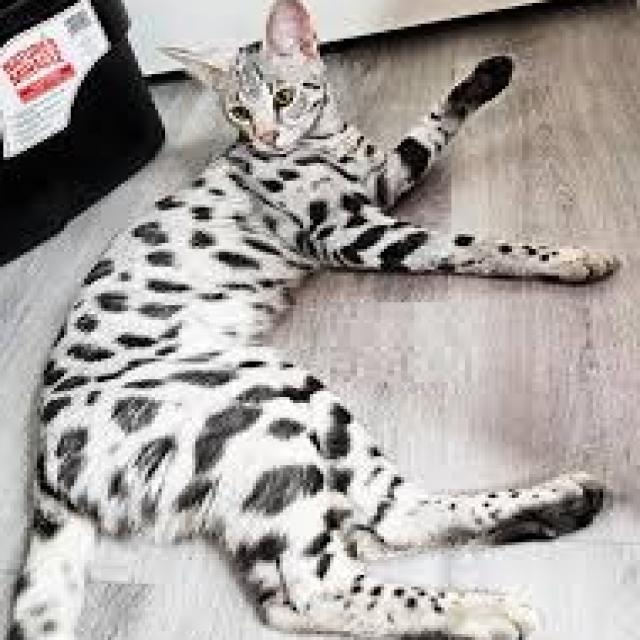Savannah: (0, 0, 623, 640)
